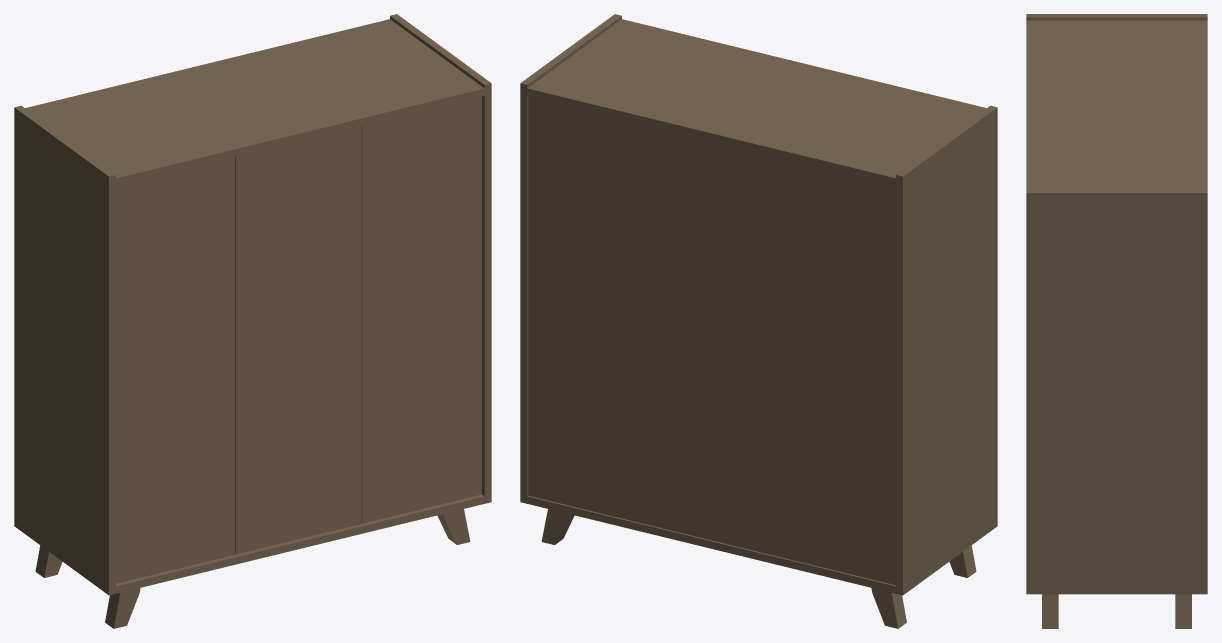
The model's file is room_shkaf_mesh_01.fbx.
The picture shows the model from 3 angles, left to right: view 1: azimuth 30°, elevation 25°; view 2: azimuth 150°, elevation 25°; view 3: azimuth 270°, elevation 25°; orthographic projection. The views are drawn at different scales.
Parts seen in each view (by area): view 1: pCube83; view 2: pCube83; view 3: pCube83.
Boxes of the visible parts, <box> form: pCube83: <box>14,14,491,628</box>; pCube83: <box>520,14,997,628</box>; pCube83: <box>1026,14,1207,628</box>.
Size of the model in its own units: 140 by 161 by 60.
